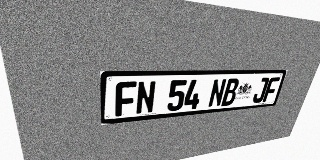4: (183, 79, 203, 110)
5: (167, 80, 187, 112)
B: (221, 78, 240, 106)
F: (115, 81, 137, 117), (262, 77, 280, 102)
J: (251, 77, 270, 103)
N: (135, 81, 156, 115), (207, 79, 227, 108)
